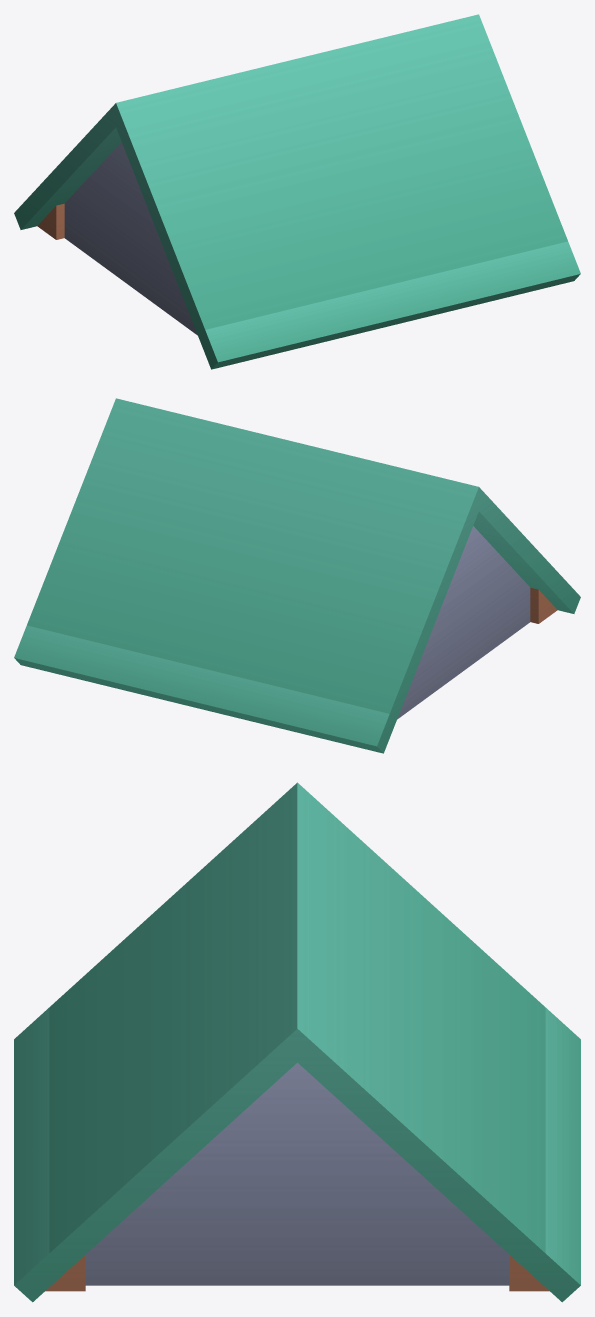
The model's file is roof-gable.fbx.
3 renders of one model, top to bottom at view 1: azimuth 30°, elevation 25°; view 2: azimuth 150°, elevation 25°; view 3: azimuth 270°, elevation 25°, orthographic. The views are drawn at different scales.
Parts seen in each view (by area): view 1: roof-gable; view 2: roof-gable; view 3: roof-gable.
Part boxes in pixels (<box>): roof-gable: <box>14,14,580,369</box>; roof-gable: <box>14,398,580,753</box>; roof-gable: <box>14,782,580,1302</box>.
Bounding box in the file's own units: 110 × 57.07 × 107.
1 material, 1 textured.
